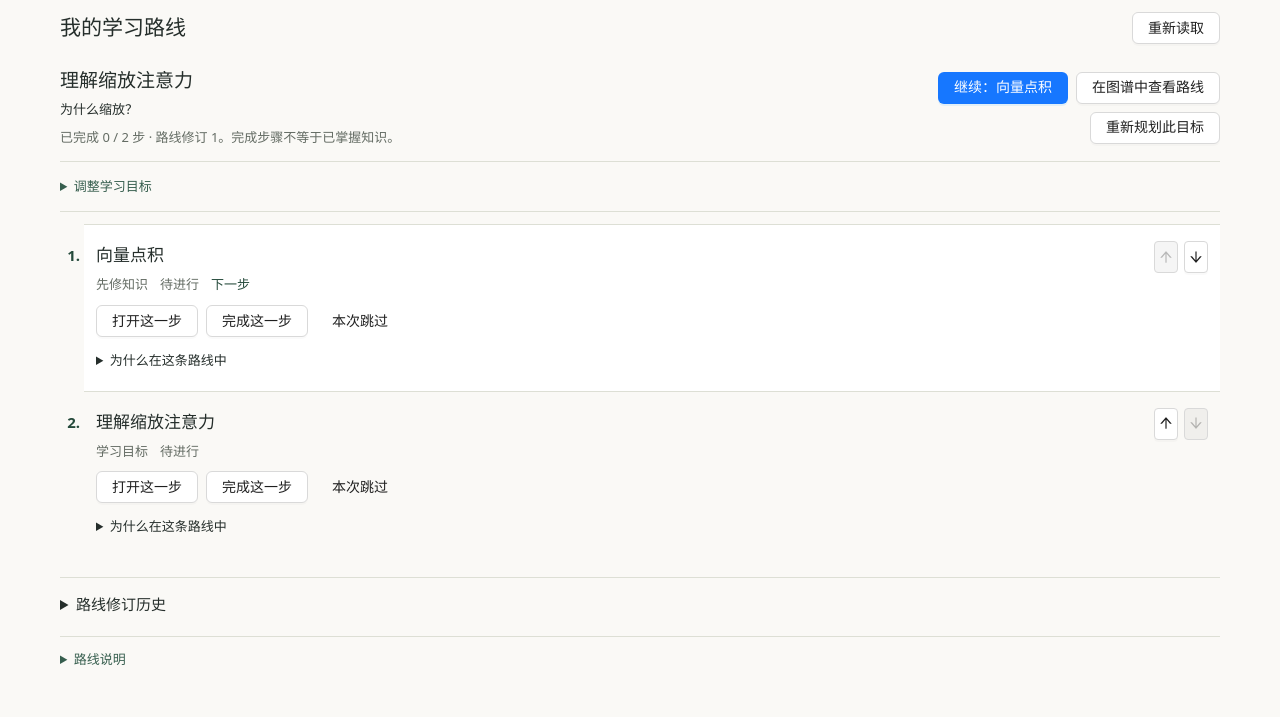
Test: conflicting save retains the reviewed preview until explicit reread
Click the button "重新规划此目标" at [1155, 128], box [1090,112,1220,144]
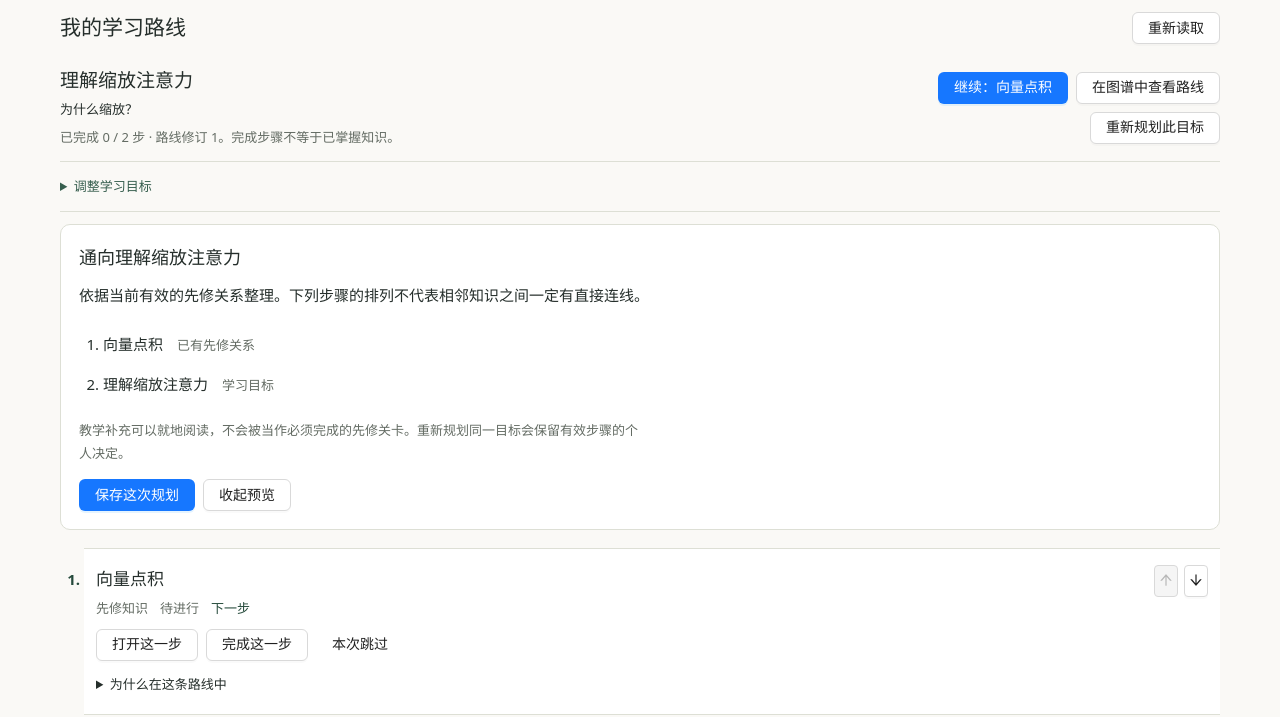
Click the button "保存这次规划" at [137, 495], box [79,479,195,511]
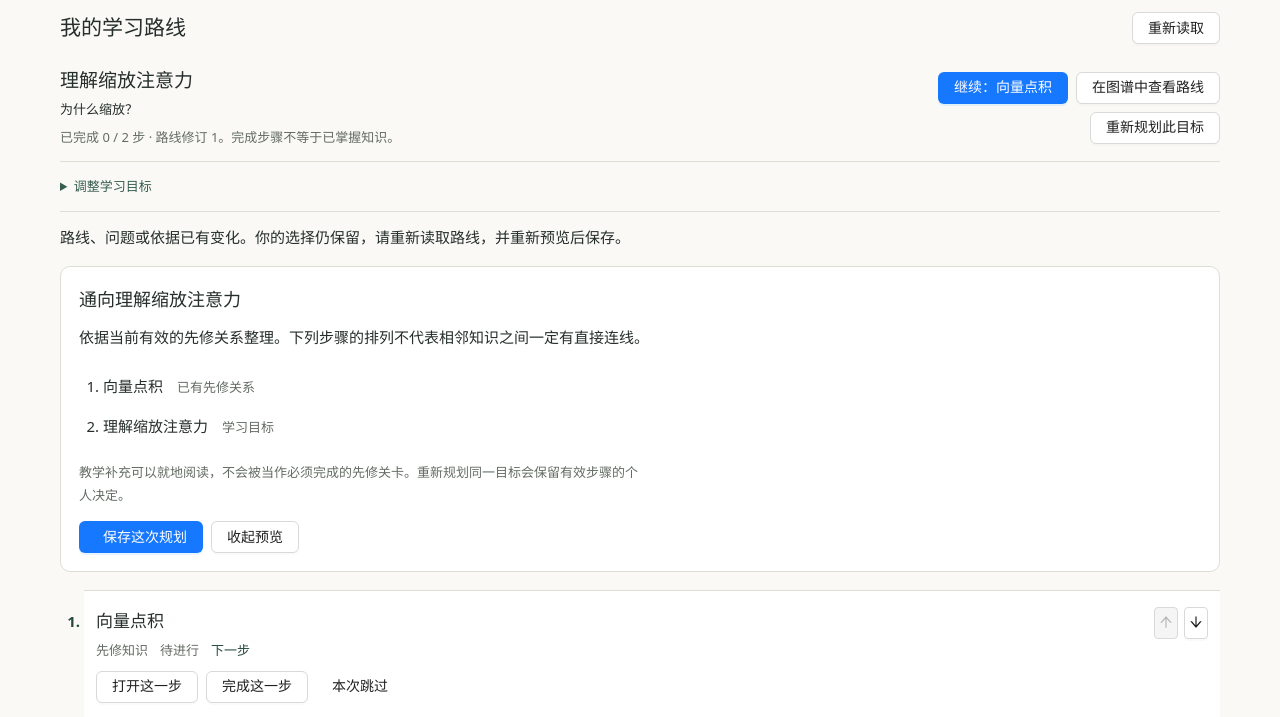
Now the element named "学习路线预览" is shown, box [60,266,1220,572]
Now the message shows "你的选择仍保留", box [60,227,630,247]
Click the button "重新读取" at [1176, 28], box [1132,12,1220,44]
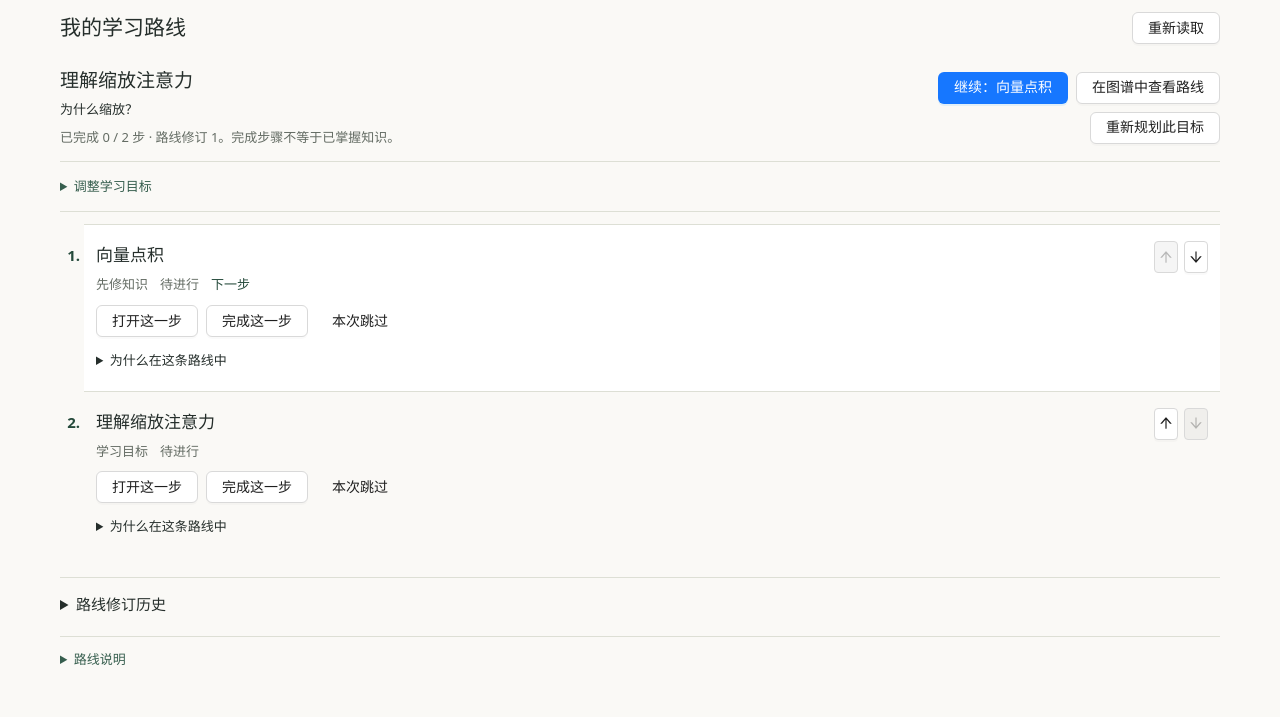
Now the element "学习路线预览" is gone
